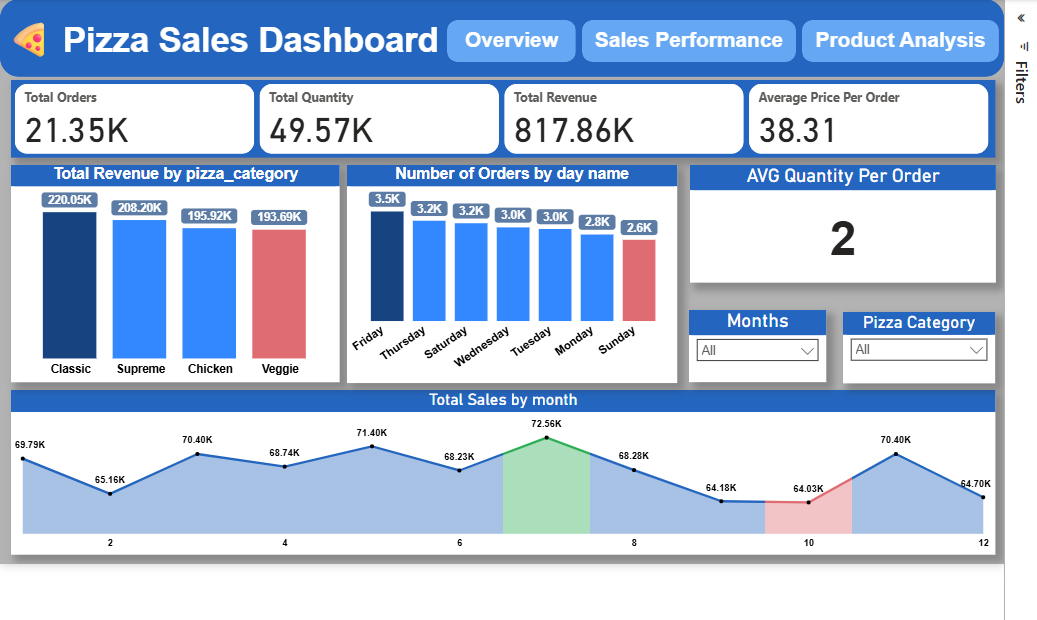

What the dashboard file says about the page in this screenshot:
{"tool":"powerbi","page":{"name":"Overview","canvas":[1280,720],"ordinal":0},"visuals":[{"type":"shape","box":[0,0,1280,99.4],"z":0},{"type":"cardVisual","fields":{"Data":["Sum(Total_Orders.Total Orders)","Sum(Total_Quantity.Total Quantity)","Sum(Total_Revenue.Total Revenue)","Sum(Average_Per_Order.Average Per Order)"]},"box":[14,103.3,1254.5,99.4],"z":1000},{"type":"lineChart","title":"Total Sales by month","fields":{"Category":["Total_Sales_over_Months.month"],"Y":["Sum(Total_Sales_over_Months.Total Sales)"]},"box":[14,498.5,1254.5,210.4],"z":2000},{"type":"columnChart","title":" Total Revenue by pizza_category","fields":{"Category":["Category_Per_Revenue.pizza_category"],"Y":["Sum(Category_Per_Revenue.Total Revenue)"]},"box":[14,211.6,419.4,276.7],"z":3000},{"type":"columnChart","title":"Number of Orders by day name","fields":{"Category":["Total_Orders_Per_Day.day_name"],"Y":["Sum(Total_Orders_Per_Day.Number of Orders)"]},"box":[442.4,211.6,420.7,277.9],"z":4000},{"type":"actionButton","box":[569.9,26.8,164.5,53.5],"z":5000},{"type":"actionButton","box":[742,26.8,272.8,53.5],"z":6000},{"type":"slicer","title":"Pizza Category","fields":{"Values":["Pizza_Category.pizza_category"]},"box":[1074.7,399,193.8,90.5],"z":7000},{"type":"slicer","title":"Months","fields":{"Values":["Date_Month.month"]},"box":[878.4,396.5,174.7,91.8],"z":8000},{"type":"card","title":"AVG Quantity Per Order","fields":{"Values":["Sum(Average_Quantity_Per_Order.average quantity per order)"]},"box":[879.7,211.6,390.1,150.4],"z":9000},{"type":"actionButton","box":[1022.5,26.8,251.2,53.5],"z":10000}]}

Visuals, with their boxes on the page's 1280x720 design canvas (x1, y1, x2, y2). These are canvas units, not pixel positions in the 1037x620 screenshot, which may show the page scaled, cropped or inside an application window:
shape: [0,0,1280,99]
cardVisual - Sum(Total_Orders.Total Orders) x Sum(Total_Quantity.Total Quantity): [14,103,1268,203]
"Total Sales by month" lineChart: [14,498,1268,709]
" Total Revenue by pizza_category" columnChart: [14,212,433,488]
"Number of Orders by day name" columnChart: [442,212,863,490]
actionButton: [570,27,734,80]
actionButton: [742,27,1015,80]
"Pizza Category" slicer: [1075,399,1268,490]
"Months" slicer: [878,396,1053,488]
"AVG Quantity Per Order" card: [880,212,1270,362]
actionButton: [1022,27,1274,80]
